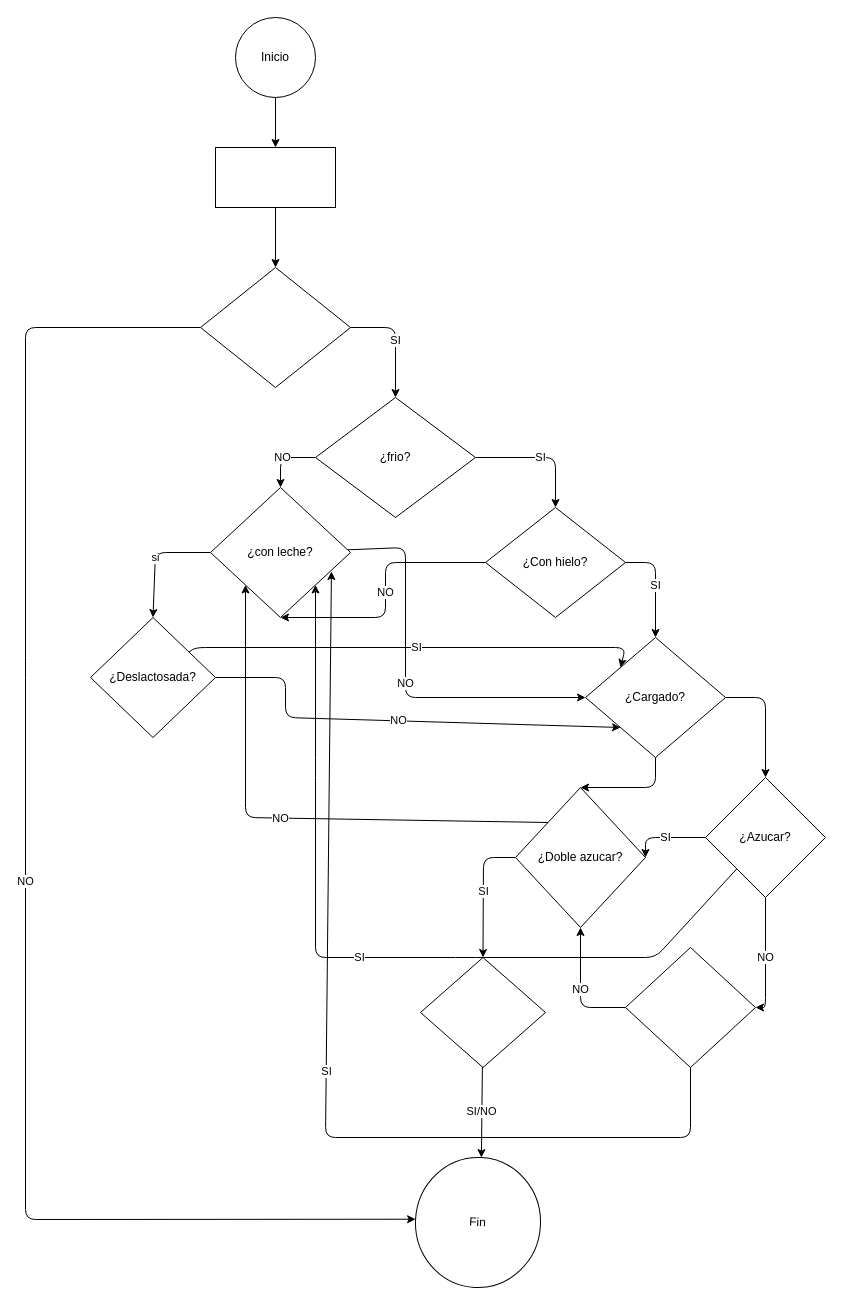
Image size: 843x1309. Some labels were removed from this diagram. The centre of each missing label's shape, as x and y in pixels:
"r=0" goes at point 275,177.
"¿Estavia?" goes at point 483,1012.
"¿Quieres un cafe?" goes at point 275,327.
"¿Sin azucar?" goes at point 690,1007.
